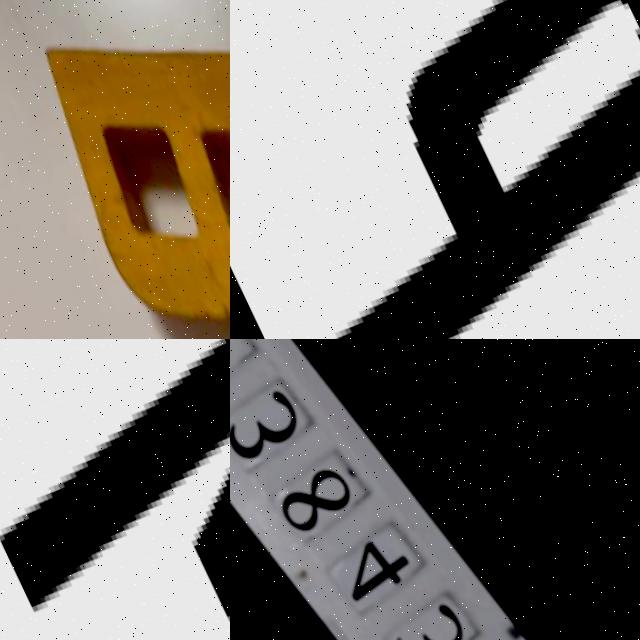3: (230, 364, 319, 480), (360, 572, 483, 640)
4: (309, 505, 428, 619)
8: (247, 433, 370, 550)
D: (230, 0, 640, 339)
K: (0, 339, 230, 640)
R: (16, 0, 230, 339)
